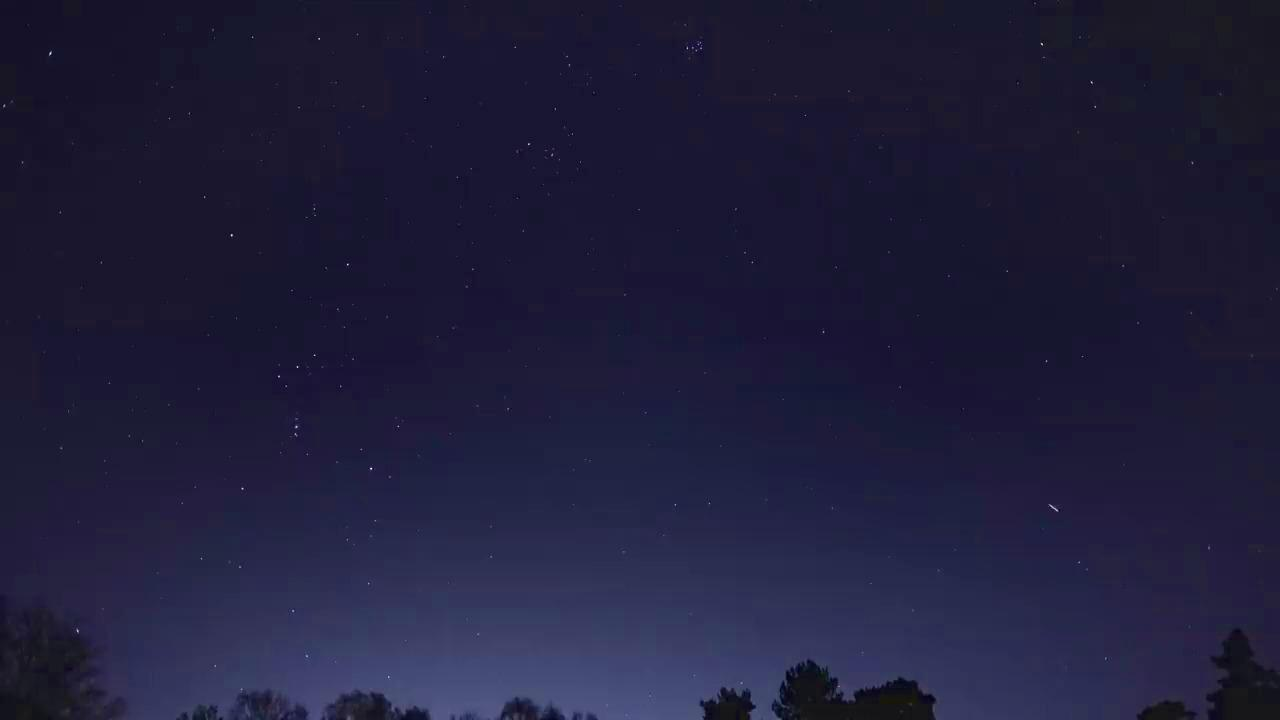meteorite: (1034, 496, 1073, 515)
